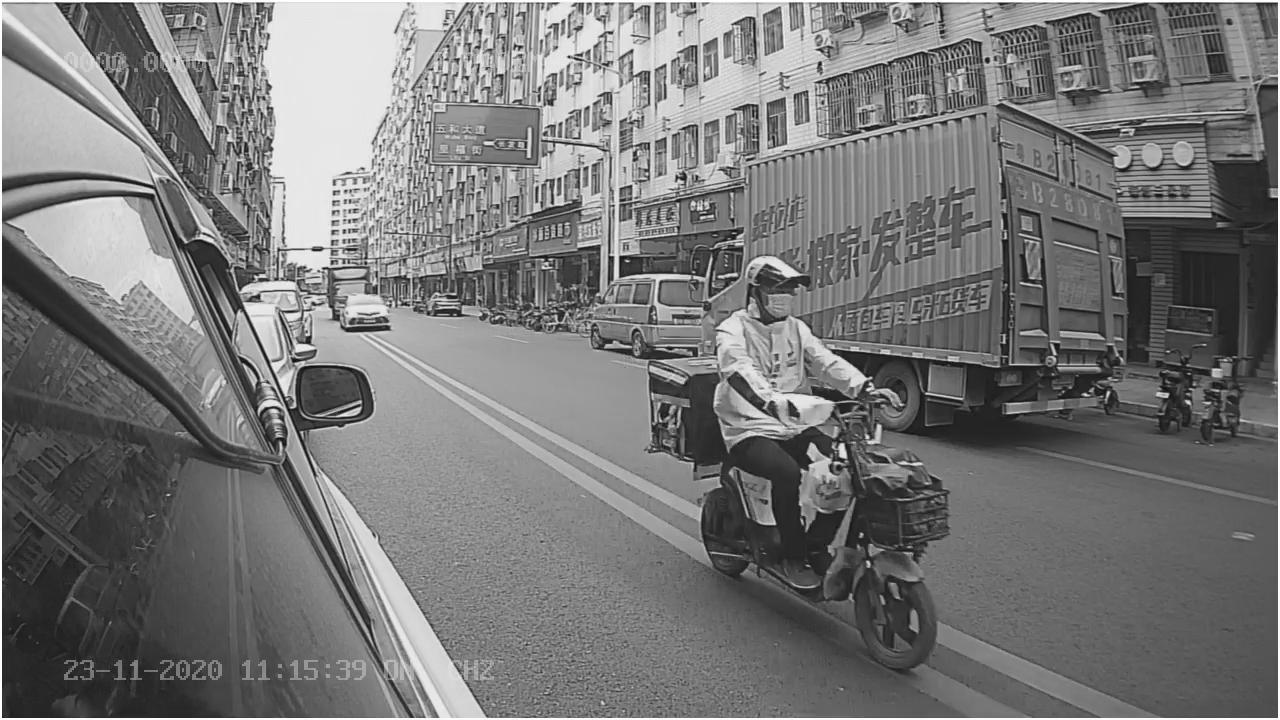person: (713, 252, 907, 420)
